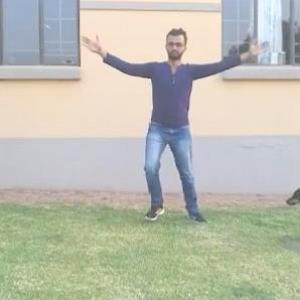takeoff: (74, 26, 244, 208)
